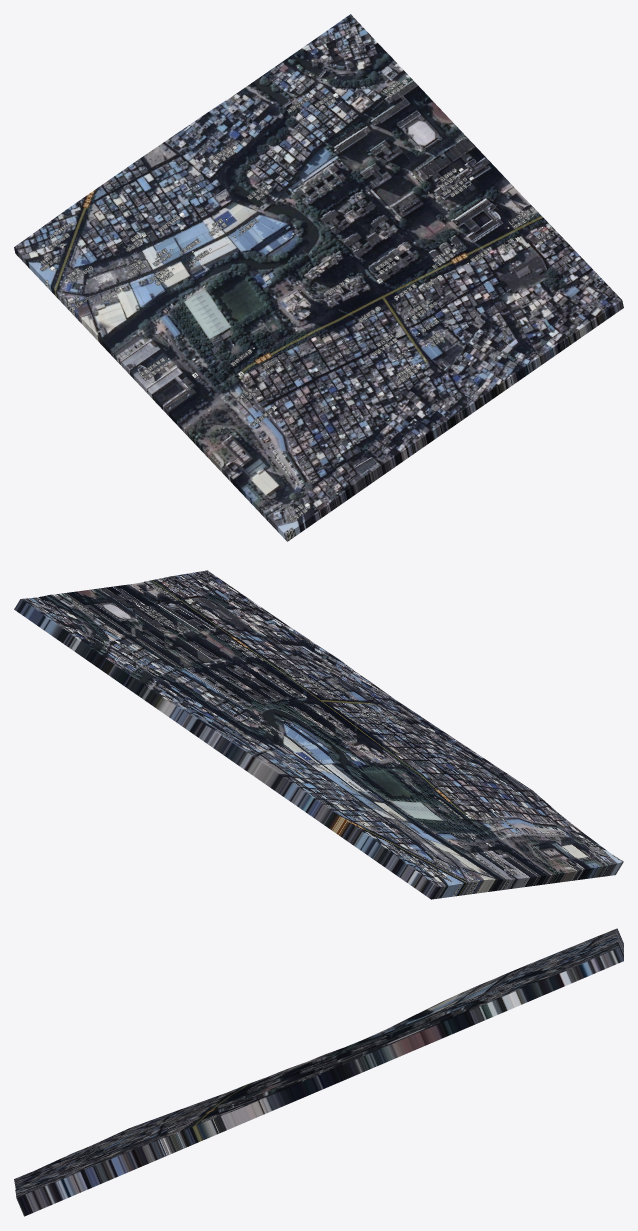
3 renders of one model, top to bottom at view 1: azimuth 30°, elevation 25°; view 2: azimuth 150°, elevation 25°; view 3: azimuth 270°, elevation 25°, orthographic. The views are drawn at different scales.
Visible parts, largest first — view 1: 0_17_24; view 2: 0_17_24; view 3: 0_17_24.
Boxes of the visible parts, bbox=[...] form: 0_17_24: bbox=[14, 14, 623, 541]; 0_17_24: bbox=[14, 570, 623, 899]; 0_17_24: bbox=[14, 928, 623, 1216].
Bounding box in the file's own units: 598 × 439 × 551.
1 material, 1 textured.
